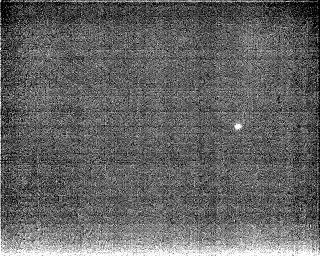AIRPLANE: (233, 122, 243, 132)
